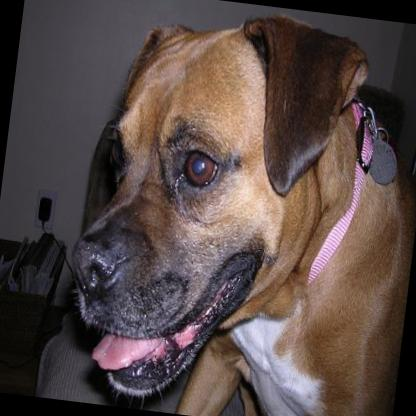boxer: (51, 0, 416, 416)
